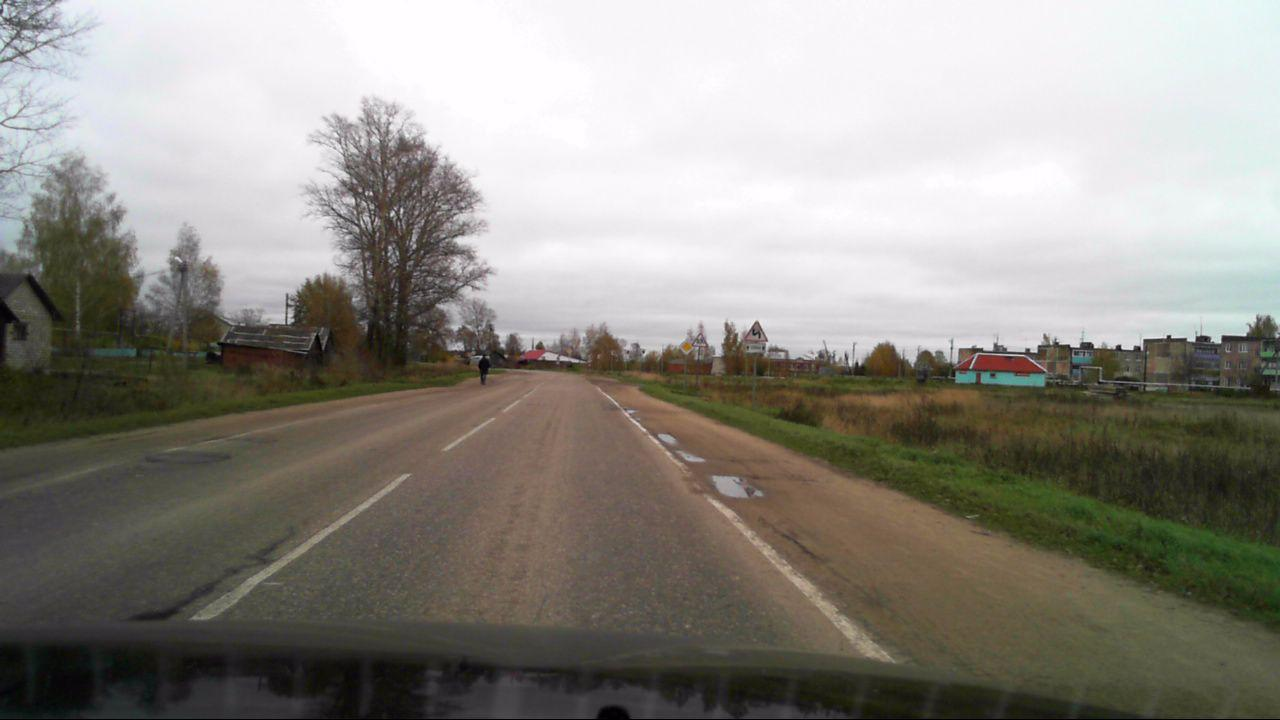1_12_2: (743, 320, 767, 342)
1_23: (692, 331, 707, 348)
2_1: (679, 339, 693, 354)
8_2_1: (744, 343, 767, 354)
